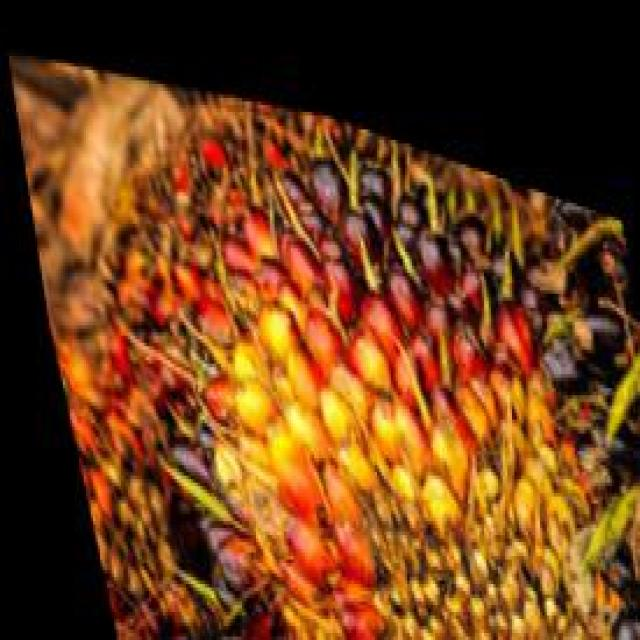Ripefruit: (84, 24, 640, 640)
